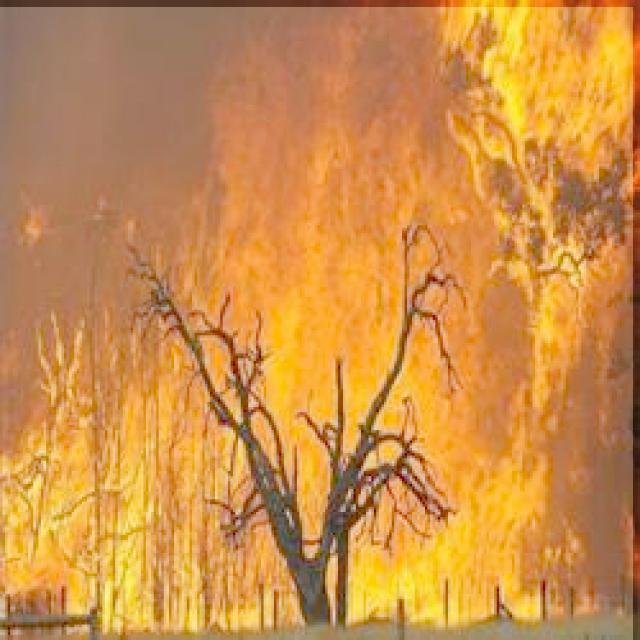Fire: (0, 7, 633, 640)
